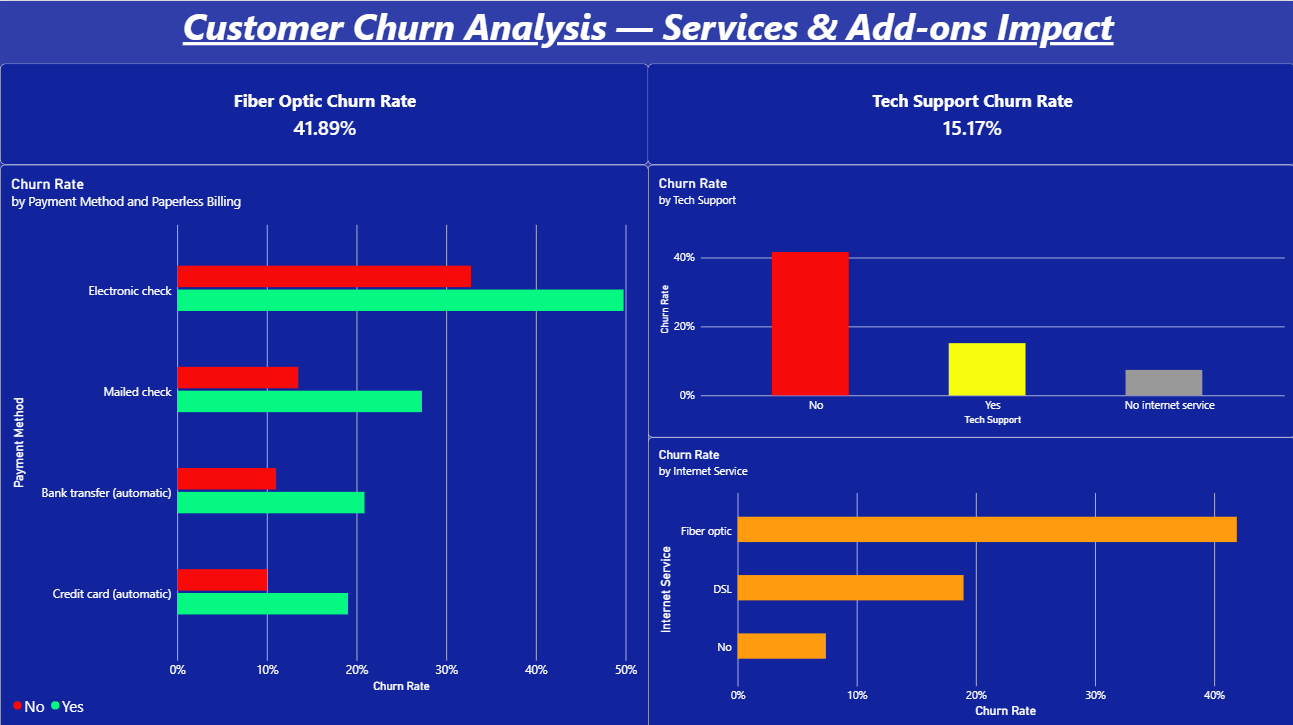

The dashboard page shown, as its layout file describes it:
{"tool":"powerbi","page":{"name":"Services & Add-ons","canvas":[1920,1080],"ordinal":2},"visuals":[{"type":"textbox","box":[0,0,1920.4,92.6],"z":0},{"type":"cardVisual","fields":{"Data":["Cleaned_telco_churn.Fiber Optic Churn Rate"]},"box":[0,92.6,961.1,150],"z":1},{"type":"cardVisual","fields":{"Data":["Cleaned_telco_churn.Tech Support Churn Rate"]},"box":[959.3,92.6,961.1,150],"z":2},{"type":"clusteredBarChart","fields":{"Category":["Cleaned_telco_churn.InternetService"],"Y":["Cleaned_telco_churn.Churn Rate"]},"box":[959.3,646.3,961.1,433.3],"z":3},{"type":"clusteredColumnChart","fields":{"Category":["Cleaned_telco_churn.TechSupport"],"Y":["Cleaned_telco_churn.Churn Rate"]},"box":[959.3,242.6,961.1,403.7],"z":4},{"type":"clusteredBarChart","fields":{"Category":["Cleaned_telco_churn.PaymentMethod"],"Series":["Cleaned_telco_churn.PaperlessBilling"],"Y":["Cleaned_telco_churn.Churn Rate"]},"box":[0,242.6,961.1,837],"z":5}]}

Visuals, with their boxes in screenshot pixels (x1, y1, x2, y2), scaled from the page's 1920x1080 canvas onto the 1293x725 screenshot:
textbox: detection(0, 0, 1292, 62)
cardVisual - Cleaned_telco_churn.Fiber Optic Churn Rate: detection(0, 62, 647, 163)
cardVisual - Cleaned_telco_churn.Tech Support Churn Rate: detection(646, 62, 1292, 163)
clusteredBarChart - Cleaned_telco_churn.InternetService x Cleaned_telco_churn.Churn Rate: detection(646, 434, 1292, 724)
clusteredColumnChart - Cleaned_telco_churn.TechSupport x Cleaned_telco_churn.Churn Rate: detection(646, 163, 1292, 434)
clusteredBarChart - Cleaned_telco_churn.PaymentMethod x Cleaned_telco_churn.PaperlessBilling: detection(0, 163, 647, 724)
